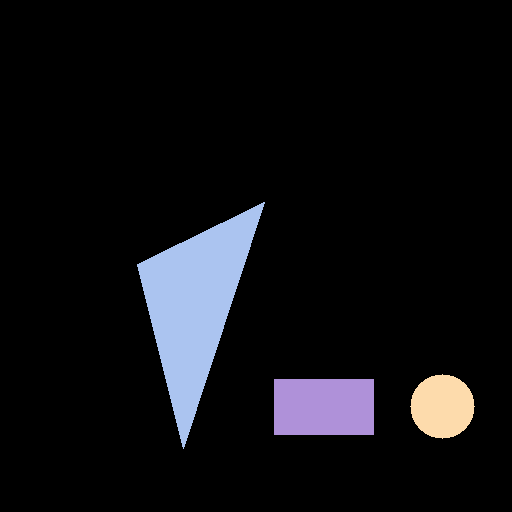circle: (410, 374, 474, 438)
rectangle: (274, 379, 373, 434)
triangle: (137, 202, 264, 448)
